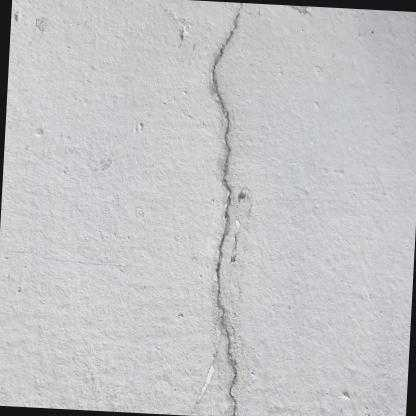crack: (210, 1, 242, 416)
